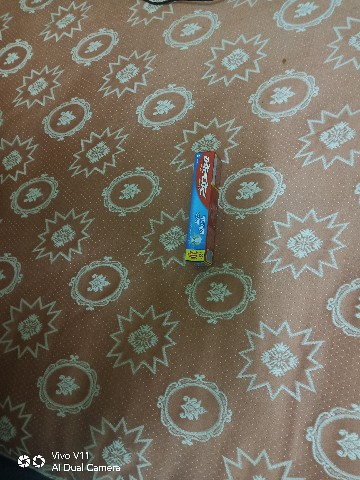colgatetoothpaste small: (172, 140, 222, 282)
